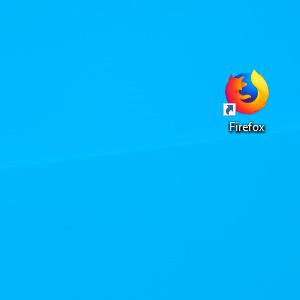firefox: (222, 67, 270, 116)
